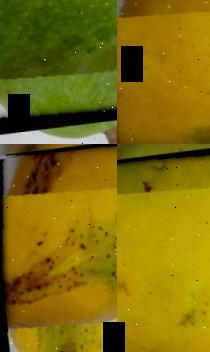PartiallyRipe: (117, 150, 210, 352)
Ripe: (0, 144, 117, 352), (117, 0, 210, 144)
Unripe: (0, 0, 117, 132)
